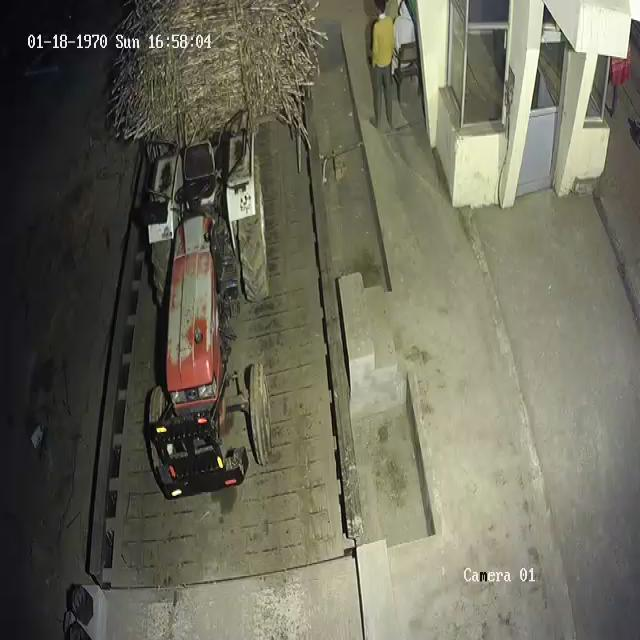Tratores - v5 YOLO V8L 2024-11-13: (149, 148, 269, 502)
